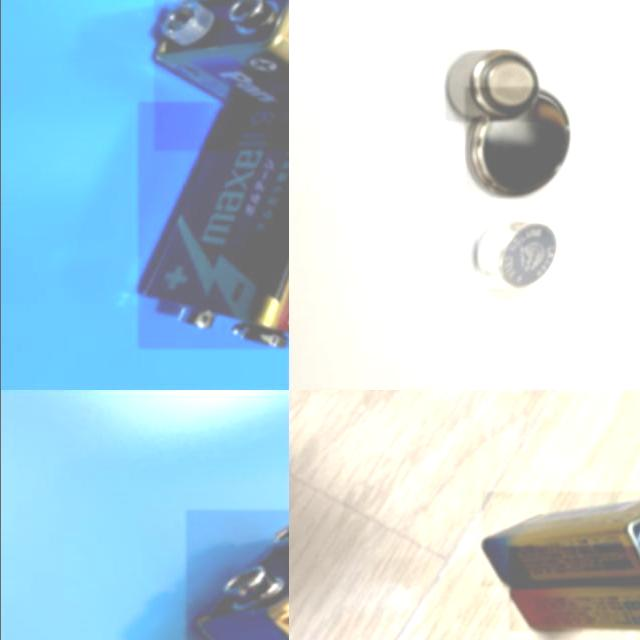9V: (137, 102, 288, 349), (153, 0, 288, 151), (481, 491, 640, 587), (508, 546, 640, 632)
